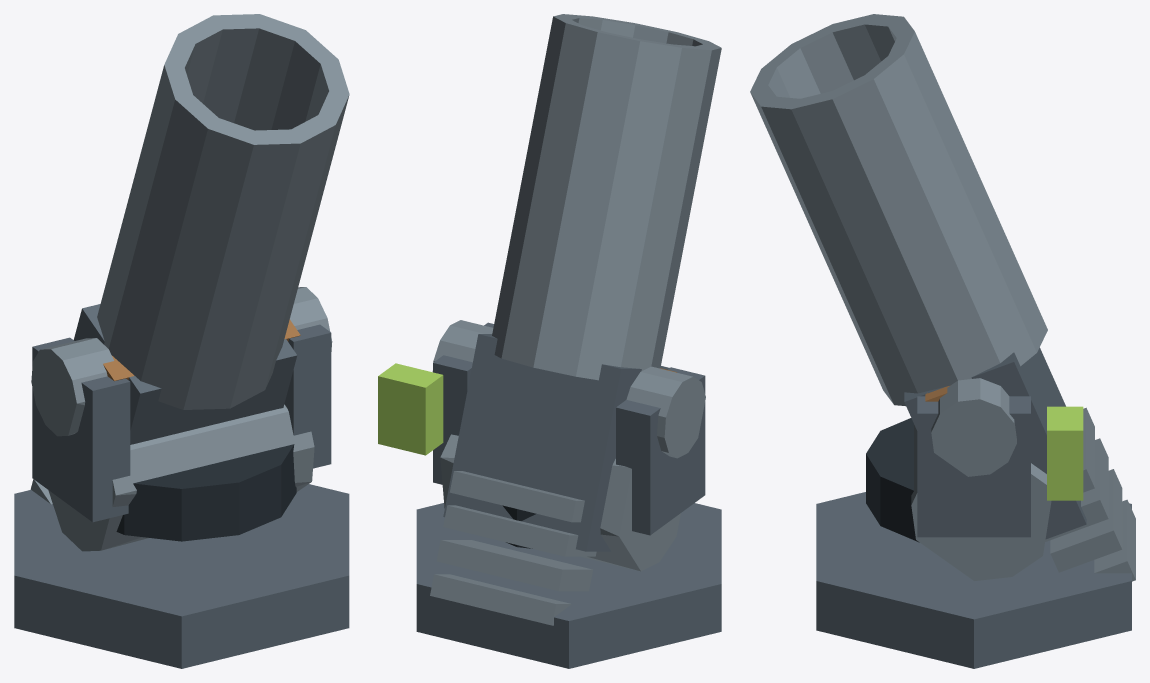
Rendered from mortar_t3_d0.meshopt.glb.
3 views of the same model, side by side, from view 1: azimuth 30°, elevation 25°; view 2: azimuth 150°, elevation 25°; view 3: azimuth 270°, elevation 25° (orthographic). The views are drawn at different scales.
Parts seen in each view (by area): view 1: ROOT_ARMOR_GEOMETRY; view 2: ROOT_ARMOR_GEOMETRY; view 3: ROOT_ARMOR_GEOMETRY.
Part boxes in pixels (<box>): ROOT_ARMOR_GEOMETRY: <box>14,14,349,668</box>; ROOT_ARMOR_GEOMETRY: <box>378,14,721,668</box>; ROOT_ARMOR_GEOMETRY: <box>750,14,1135,668</box>.
Size of the model in its own units: 1.6 by 2.72 by 1.69.
